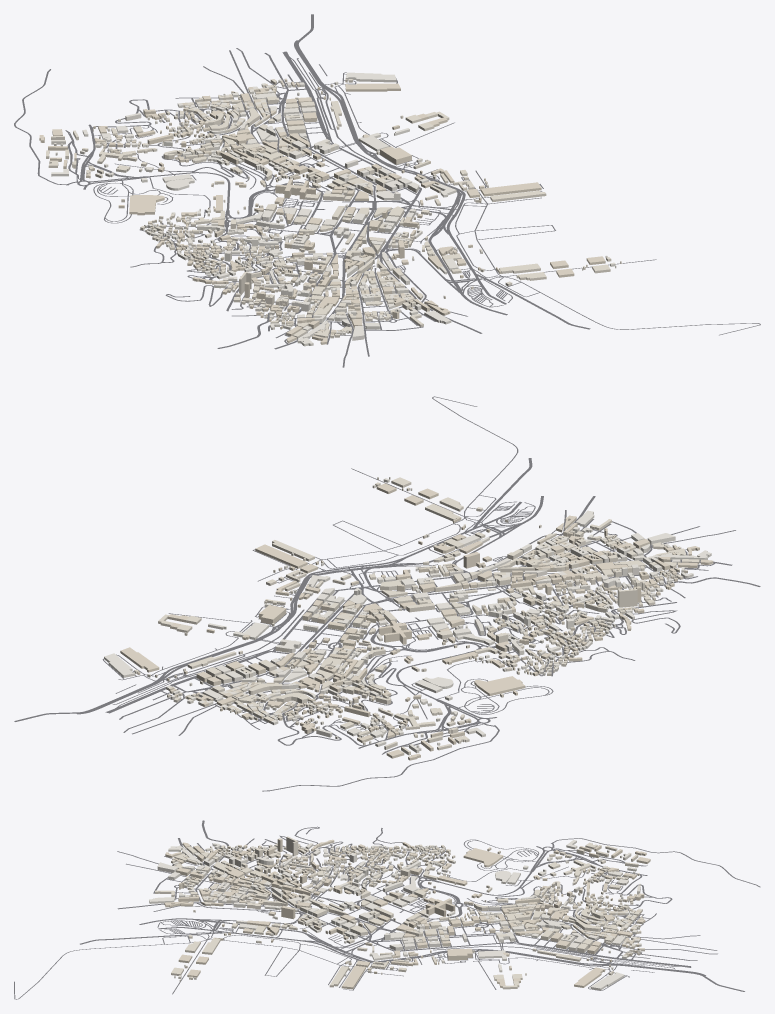
The model's file is alger_centre.glb.
The picture shows the model from 3 angles, top to bottom: view 1: azimuth 30°, elevation 25°; view 2: azimuth 150°, elevation 25°; view 3: azimuth 270°, elevation 25°; orthographic projection. The views are drawn at different scales.
Visible parts, largest first — view 1: roads, b_res1-col, b_res2-col, b_res0-col, b_com2-col, b_com0-col, b_pub2-col, b_pub1-col; view 2: roads, b_res1-col, b_res2-col, b_res0-col, b_com2-col, b_pub2-col, b_com0-col, b_pub1-col; view 3: roads, b_res1-col, b_res2-col, b_res0-col, b_com2-col, b_pub2-col, b_com0-col, b_pub1-col, b_com1-col, b_pub0-col.
Boxes of the visible parts, x1=… form: roads: x1=14, y1=14, x2=760, y2=367; b_res1-col: x1=48, y1=78, x2=621, y2=338; b_res2-col: x1=39, y1=79, x2=605, y2=344; b_res0-col: x1=51, y1=72, x2=616, y2=346; b_com2-col: x1=48, y1=79, x2=418, y2=295; b_com0-col: x1=51, y1=81, x2=403, y2=232; b_pub2-col: x1=192, y1=164, x2=453, y2=284; b_pub1-col: x1=97, y1=101, x2=382, y2=305; roads: x1=14, y1=396, x2=760, y2=791; b_res1-col: x1=158, y1=477, x2=699, y2=755; b_res2-col: x1=120, y1=483, x2=713, y2=760; b_res0-col: x1=104, y1=477, x2=711, y2=753; b_com2-col: x1=137, y1=536, x2=549, y2=751; b_pub2-col: x1=342, y1=545, x2=631, y2=664; b_com0-col: x1=147, y1=577, x2=485, y2=738; b_pub1-col: x1=187, y1=546, x2=595, y2=730; roads: x1=14, y1=820, x2=760, y2=999; b_res1-col: x1=155, y1=836, x2=644, y2=989; b_res2-col: x1=164, y1=838, x2=650, y2=989; b_res0-col: x1=149, y1=843, x2=642, y2=990; b_com2-col: x1=211, y1=845, x2=632, y2=973; b_pub2-col: x1=267, y1=839, x2=486, y2=935; b_com0-col: x1=331, y1=840, x2=628, y2=969; b_pub1-col: x1=210, y1=859, x2=617, y2=961; b_com1-col: x1=329, y1=845, x2=617, y2=975; b_pub0-col: x1=248, y1=881, x2=575, y2=943.
Size of the model in its own units: 1715 by 60 by 3024.
